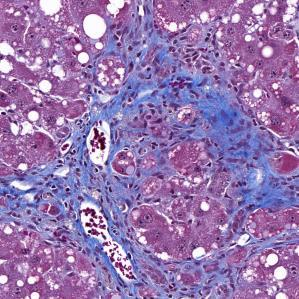fibrosis: (101, 26, 229, 124), (30, 149, 150, 245), (90, 238, 241, 299), (201, 124, 299, 217)
